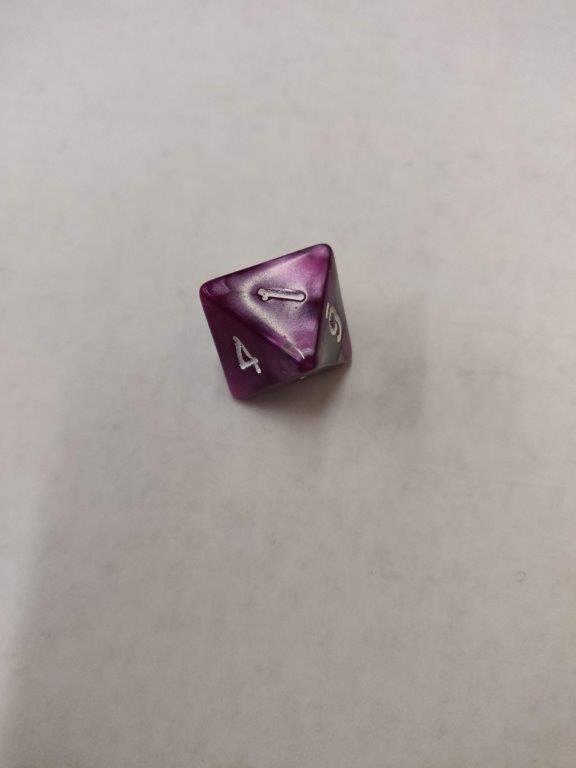d8-1: (197, 241, 355, 402)
